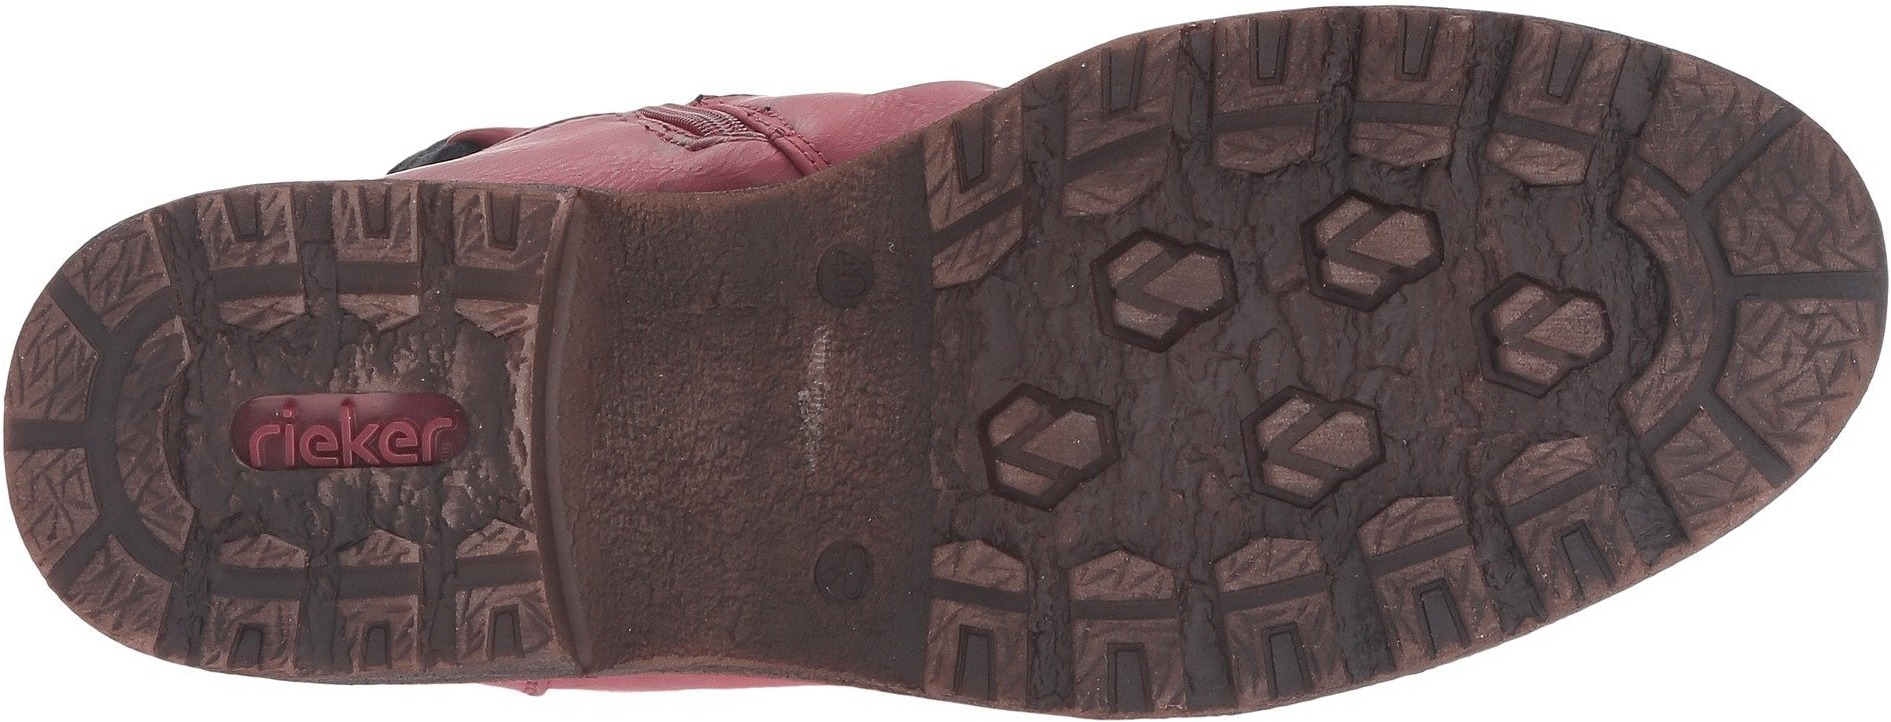chevron: (1466, 256, 1639, 419), (1286, 170, 1460, 331), (964, 380, 1126, 552), (1214, 376, 1399, 528), (1077, 230, 1264, 364)
line: (1201, 6, 1336, 201), (1060, 539, 1204, 718)
other: (582, 271, 801, 497)
polygon: (1466, 256, 1639, 419), (1286, 170, 1460, 331), (964, 380, 1126, 552), (1214, 376, 1399, 528), (1201, 6, 1336, 201), (1060, 539, 1204, 718), (1077, 230, 1264, 364)
quad: (1644, 294, 1885, 604), (1631, 14, 1883, 283), (2, 447, 201, 675), (1466, 256, 1639, 419), (1286, 170, 1460, 331), (964, 380, 1126, 552), (1214, 376, 1399, 528), (1201, 6, 1336, 201), (1060, 539, 1204, 718), (51, 184, 191, 364), (1077, 230, 1264, 364)
text: (349, 387, 462, 472), (245, 401, 341, 485)
